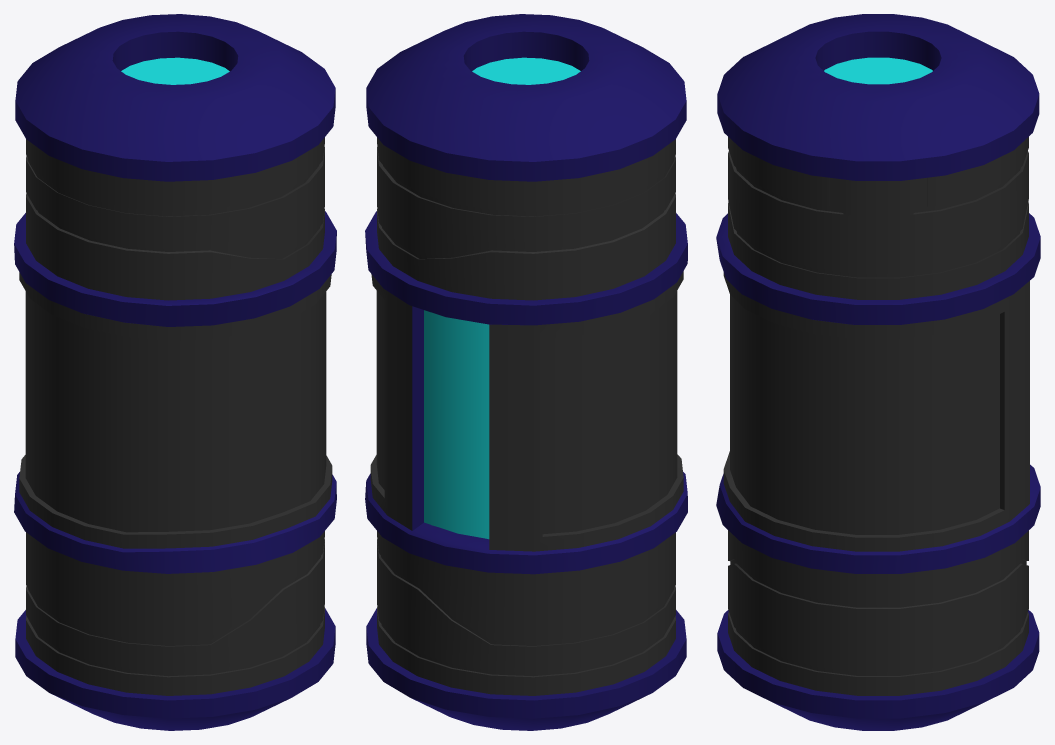
File: Powercell_Model.fbx
The picture shows the model from 3 angles, left to right: view 1: azimuth 30°, elevation 25°; view 2: azimuth 150°, elevation 25°; view 3: azimuth 270°, elevation 25°; orthographic projection.
Parts seen in each view (by area): view 1: Cuerpo, Luz; view 2: Cuerpo, Luz; view 3: Cuerpo, Luz.
Boxes of the visible parts, x1,y1,x2,y2 form: Cuerpo: (14, 14, 336, 730); Luz: (121, 57, 229, 84); Cuerpo: (365, 14, 687, 730); Luz: (424, 57, 580, 539); Cuerpo: (716, 14, 1040, 730); Luz: (824, 57, 932, 84).
Bounding box in the file's own units: 73.85 × 159 × 74.6.
